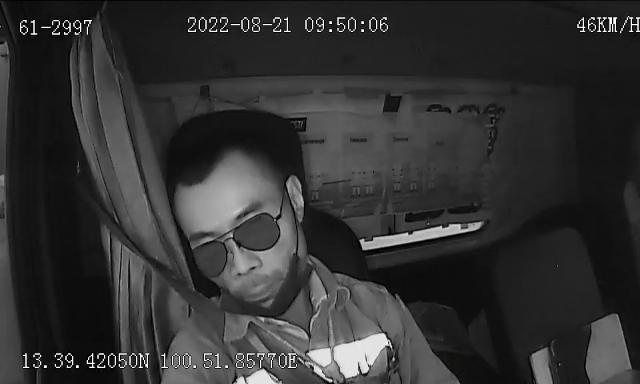SafeDriving: (416, 96, 459, 118)
Seatbelt: (202, 309, 205, 313)
